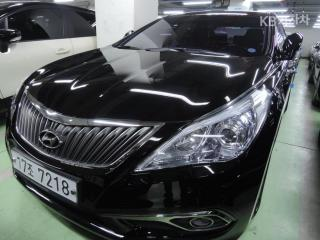1: (53, 175, 61, 192), (15, 155, 22, 170)
2: (44, 171, 54, 187)
7: (36, 166, 46, 184), (21, 158, 27, 173)
8: (60, 179, 70, 195)
plate: (7, 143, 85, 210)
조: (27, 161, 34, 178)
